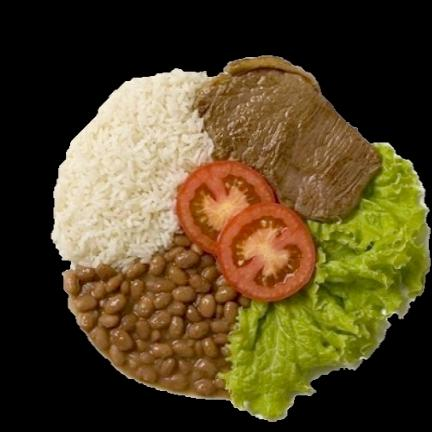beans: (65, 237, 251, 399)
meat: (195, 52, 383, 222)
rice: (54, 73, 212, 264)
salad: (232, 142, 429, 420)
tomato: (177, 161, 313, 303)
